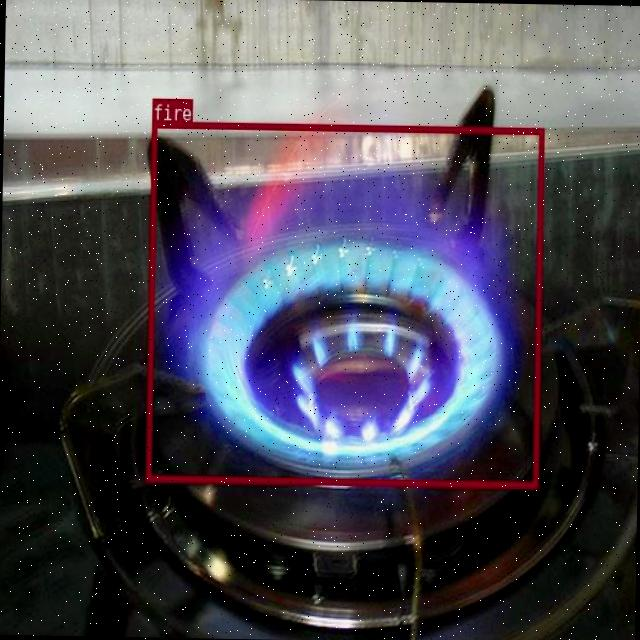fire: (145, 120, 542, 488)
